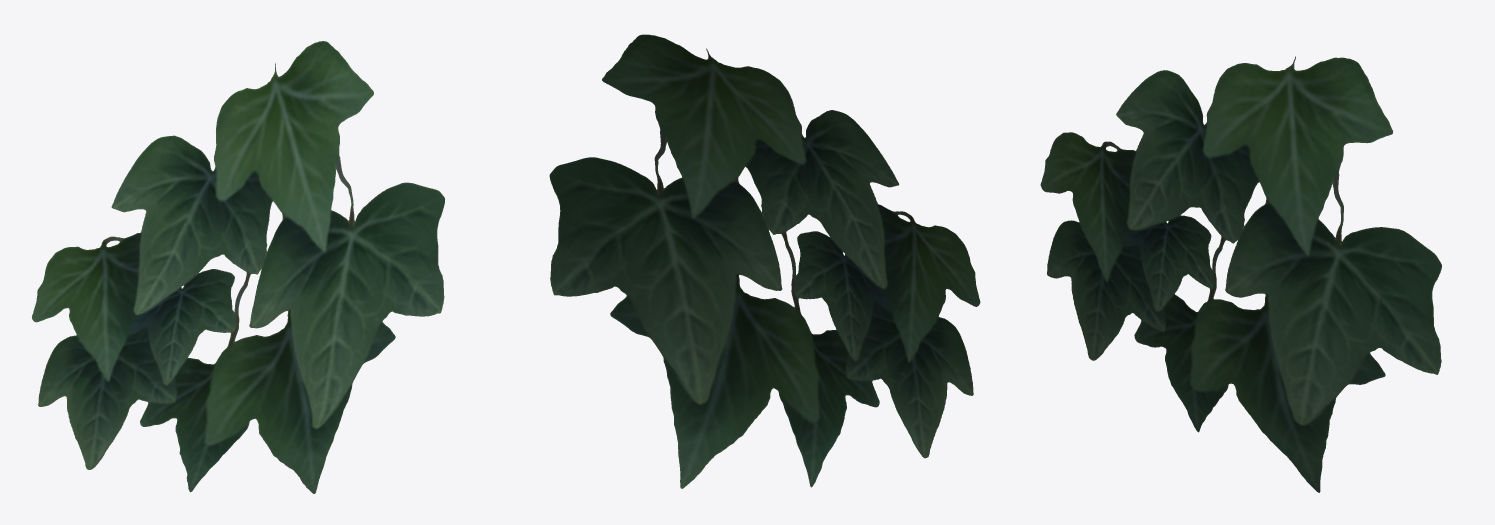
File: BgMD_vine01_05.fbx
The picture shows the model from 3 angles, left to right: view 1: azimuth 30°, elevation 25°; view 2: azimuth 150°, elevation 25°; view 3: azimuth 330°, elevation 25°; orthographic projection. The views are drawn at different scales.
Visible parts, largest first — view 1: BgMD_vine01_05; view 2: BgMD_vine01_05; view 3: BgMD_vine01_05.
Part boxes in pixels (<box>): BgMD_vine01_05: <box>32,41,444,493</box>; BgMD_vine01_05: <box>549,34,980,488</box>; BgMD_vine01_05: <box>1040,56,1441,492</box>.
Size of the model in its own units: 16.03 by 15.7 by 2.08.
